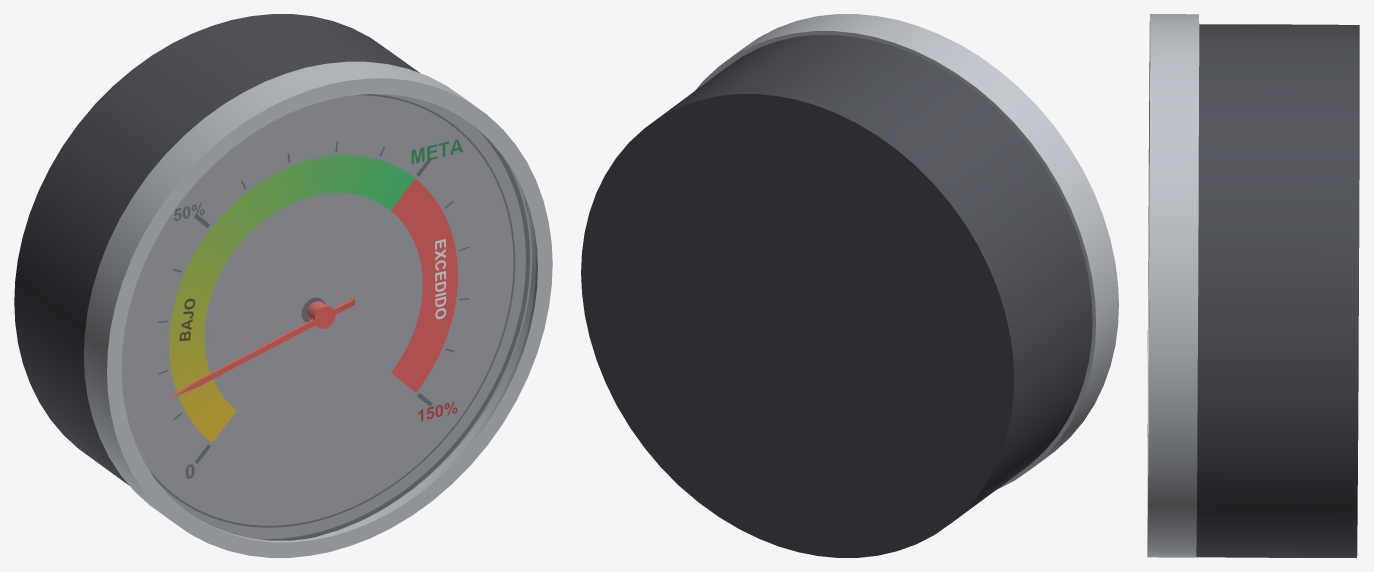
Rendered from gauge_meter_001_meshopt.glb.
3 views of the same model, side by side, from view 1: azimuth 30°, elevation 25°; view 2: azimuth 150°, elevation 25°; view 3: azimuth 270°, elevation 25° (orthographic). The views are drawn at different scales.
Visible parts, largest first — view 1: cristal, dial, soporte, marco, aguja; view 2: soporte, marco; view 3: soporte, marco.
Boxes of the visible parts, box(x1,y1,x2,y2) form: cristal: box(122, 94, 535, 539); dial: box(121, 94, 532, 540); soporte: box(14, 14, 530, 485); marco: box(84, 61, 552, 557); aguja: box(172, 298, 354, 397); soporte: box(581, 35, 1092, 557); marco: box(695, 14, 1118, 489); soporte: box(1196, 24, 1359, 557); marco: box(1147, 14, 1199, 557).
Size of the model in its own units: 2.04 by 2.04 by 0.7969.
5 materials, 1 textured.
